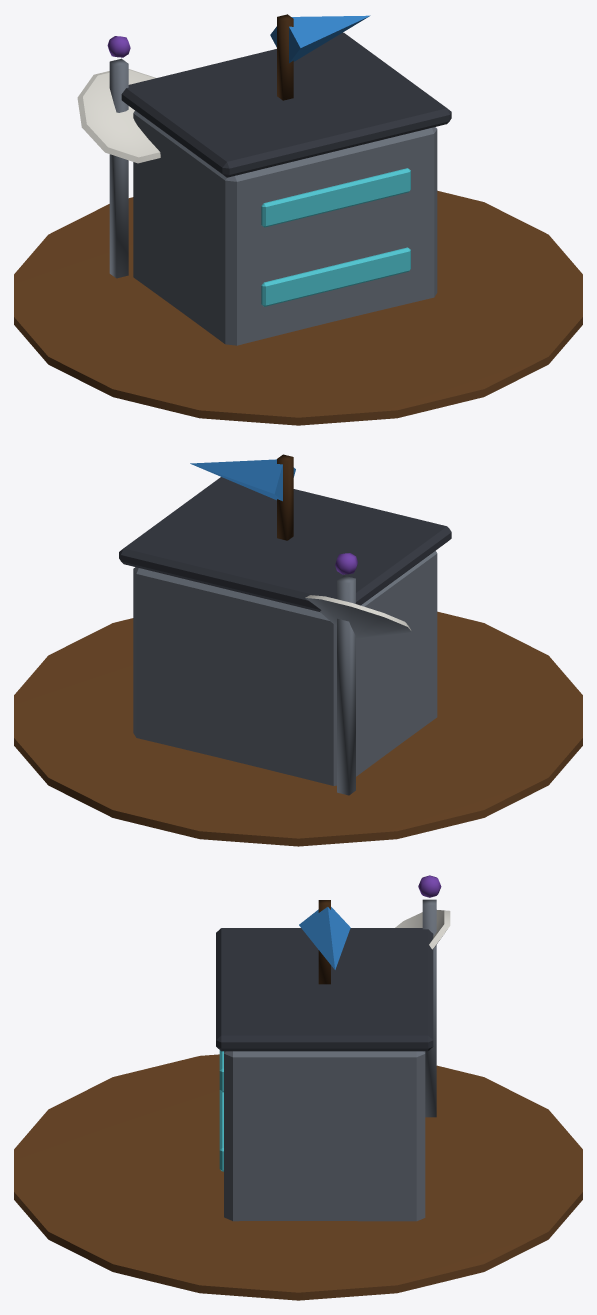
The picture shows the model from 3 angles, top to bottom: view 1: azimuth 30°, elevation 25°; view 2: azimuth 150°, elevation 25°; view 3: azimuth 270°, elevation 25°; orthographic projection.
Parts seen in each view (by area): view 1: vila_0_base; view 2: vila_0_base; view 3: vila_0_base.
Boxes of the visible parts, bbox=[...] form: vila_0_base: bbox=[14, 14, 582, 425]; vila_0_base: bbox=[14, 454, 582, 846]; vila_0_base: bbox=[14, 875, 582, 1300].
Size of the model in its own units: 1.32 by 0.7 by 1.3.
